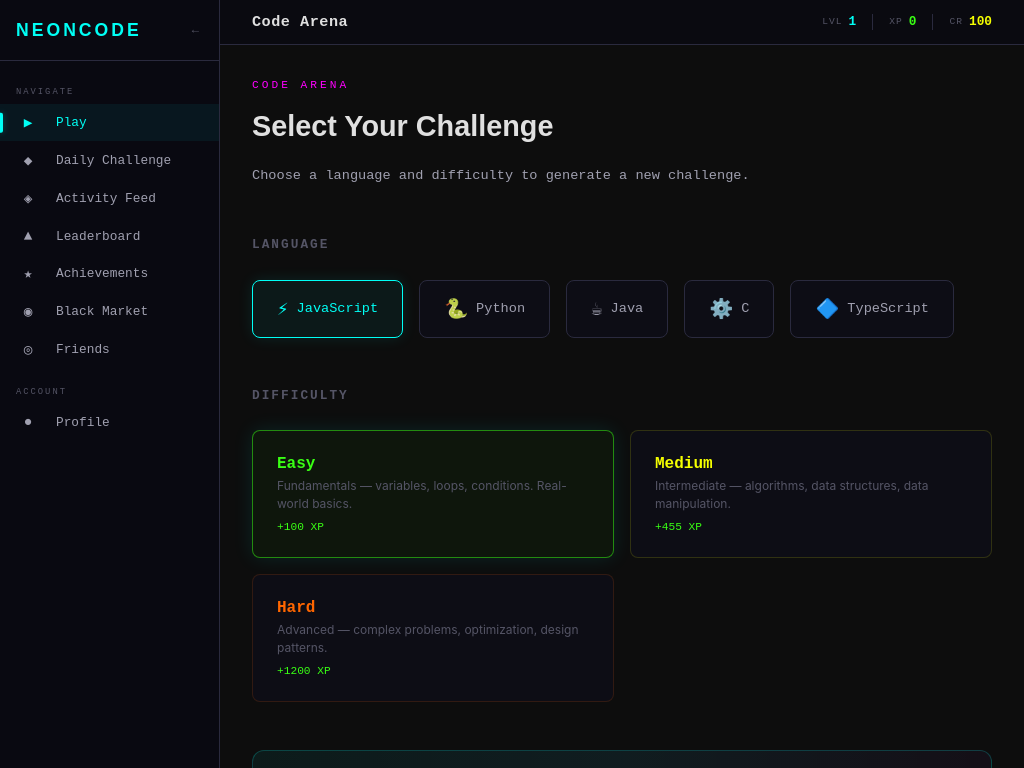
Test case: MainPage › switches to black market view
What coordinates should you click on to do the following:
click the button "◉ Black Market"
I would click on:
 (110, 312)
Its box is [0,293,219,330].
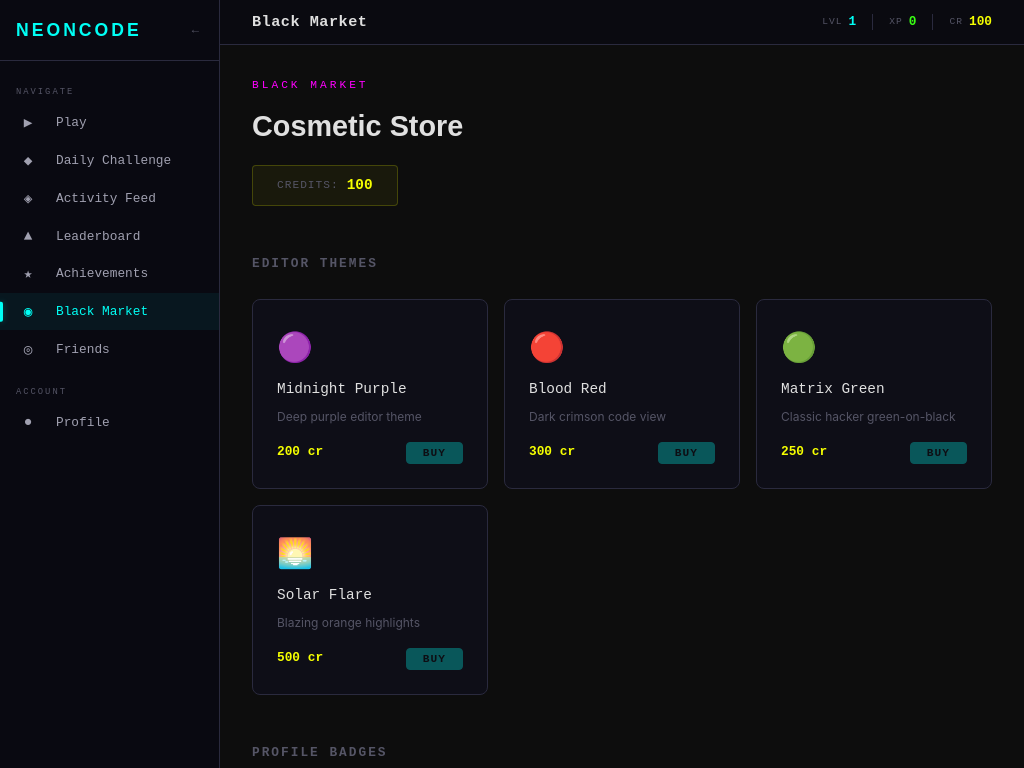
Expected: the text "Midnight Purple" is shown, [277,381,406,397]
